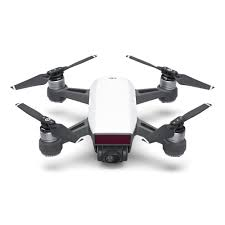Drone: (14, 37, 214, 191)
